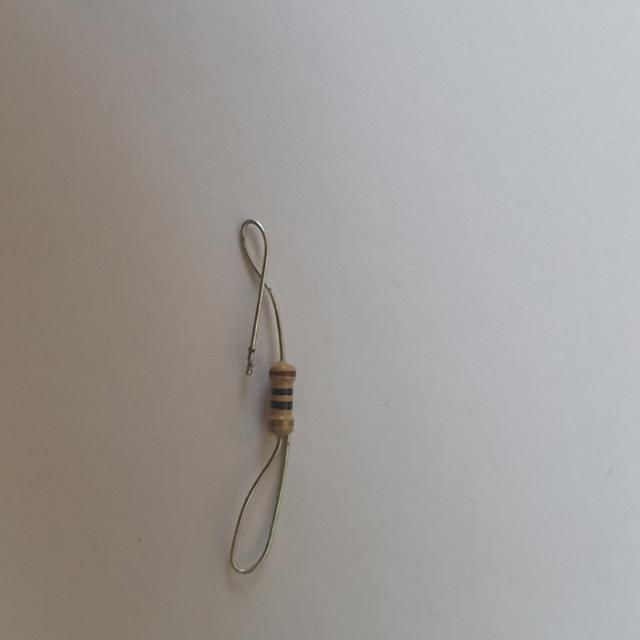black: (271, 402, 292, 408), (271, 389, 292, 393)
brown: (271, 370, 295, 376)
gold: (270, 420, 293, 424)
resistor: (258, 358, 309, 447)
